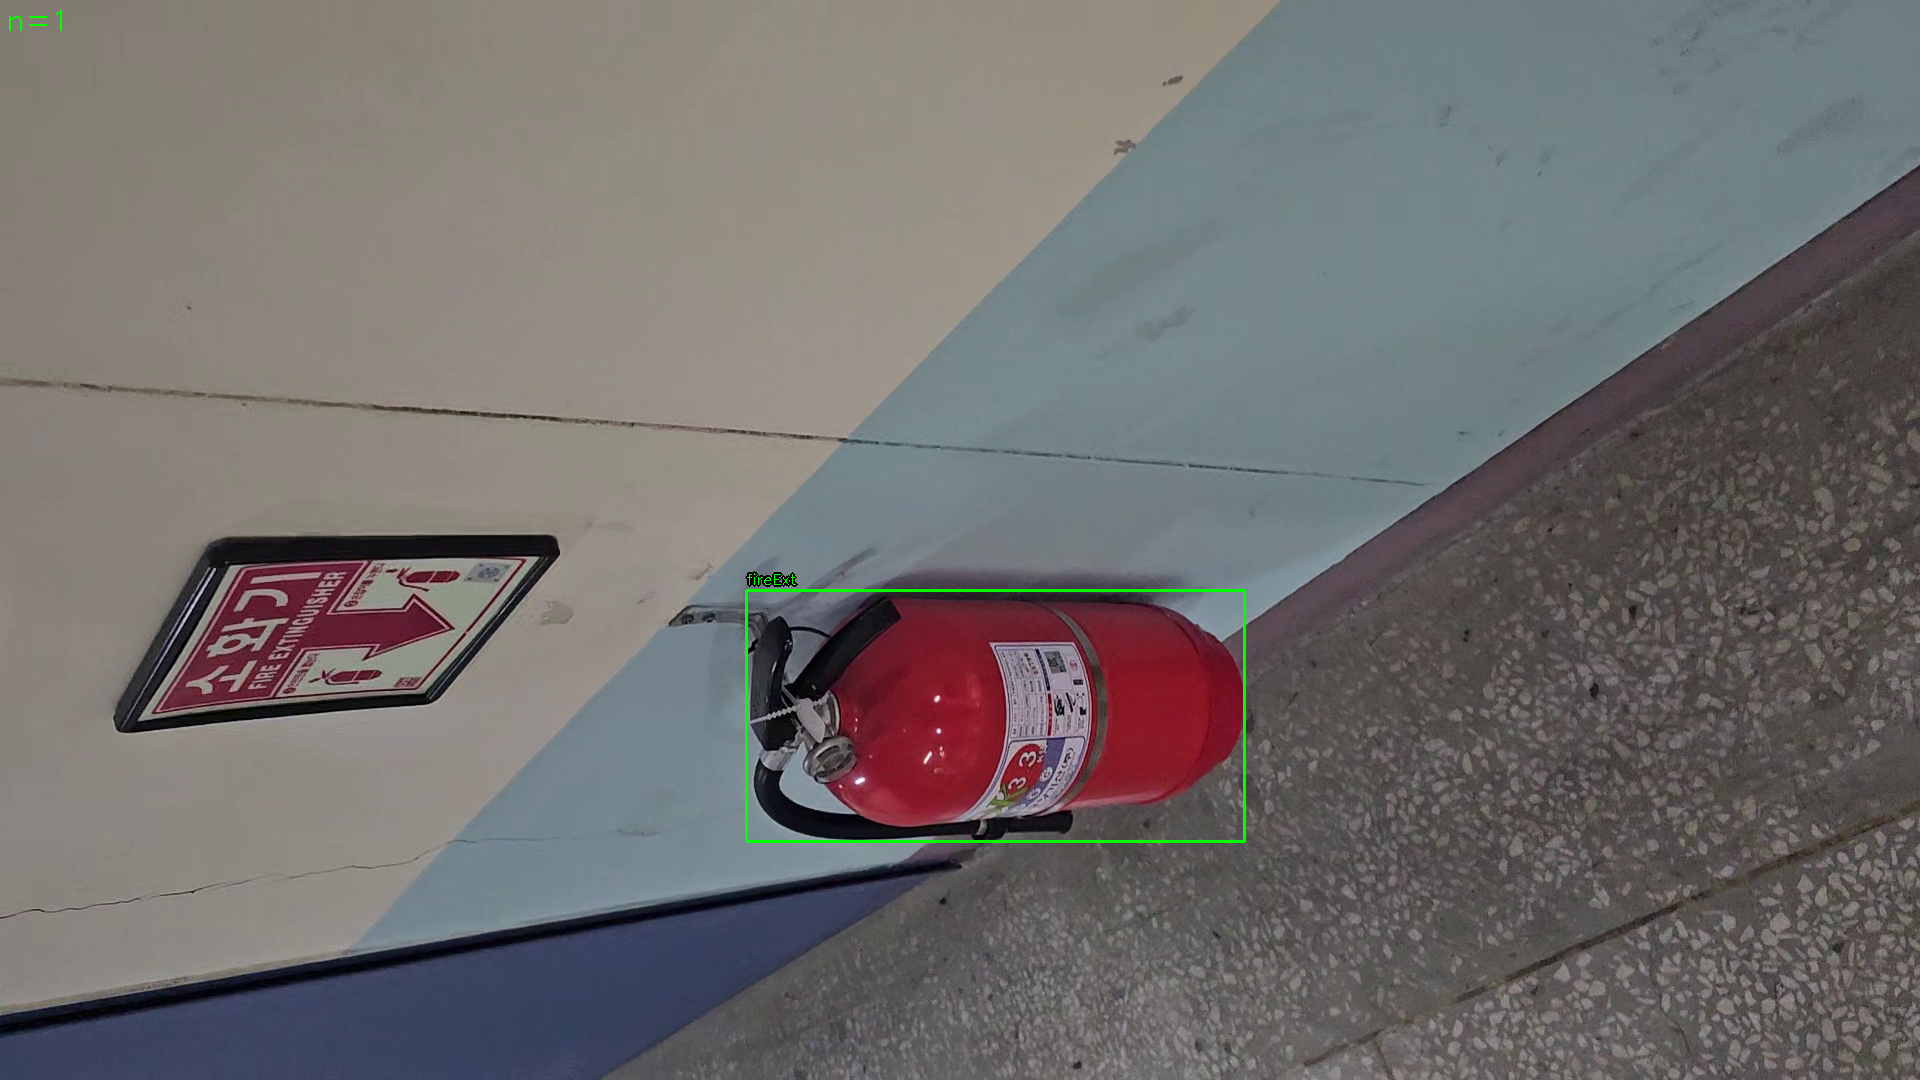lane: (746, 589, 1245, 843)
